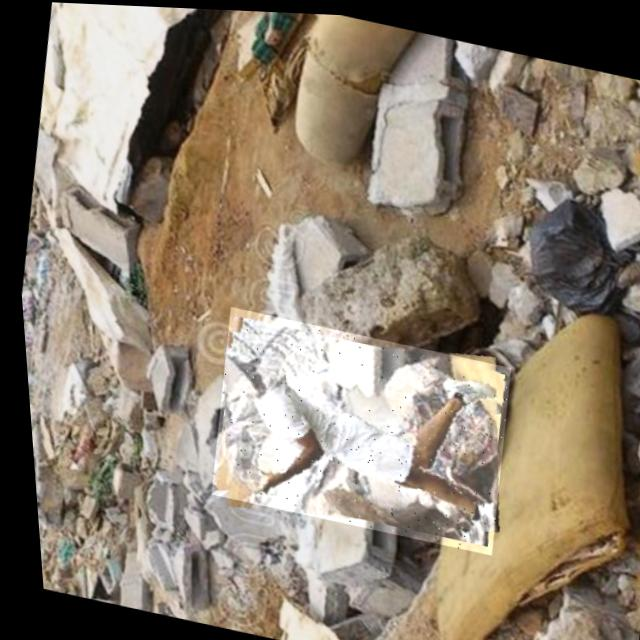Person in Rubble: (192, 302, 516, 551)
